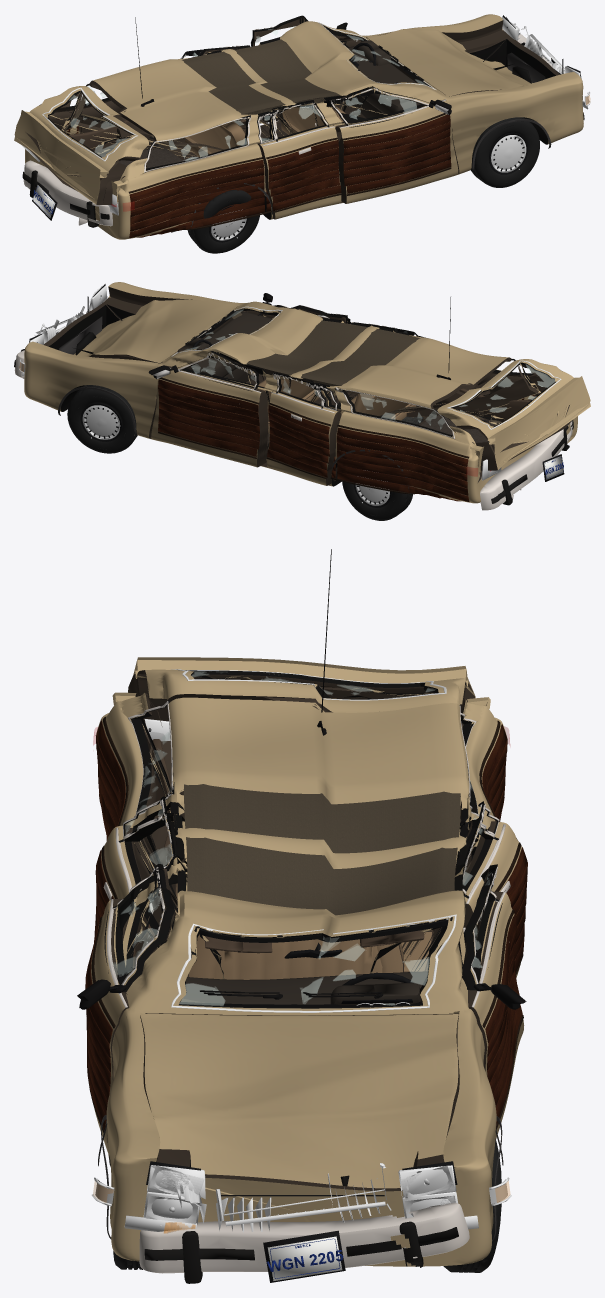
The model's file is wagon82_roll_d1_lod1.glb.
The picture shows the model from 3 angles, top to bottom: view 1: azimuth 30°, elevation 25°; view 2: azimuth 150°, elevation 25°; view 3: azimuth 270°, elevation 25°; orthographic projection. The views are drawn at different scales.
Visible parts, largest first — view 1: Body, Trim, Tailgate, Trim_FR, Interior, Hood, Trim_RR, Door_FR, Wheel_FR_mesh, Wheel_RR_mesh, Door_RR, Bumper_R (+7 smaller); view 2: Body, Trim, Tailgate, Trim_FL, Hood, Interior, Trim_RL, Door_FL, Wheel_FL_mesh, Bumper_R, Door_RL, Wheel_RL_mesh (+6 smaller); view 3: Body, Hood, Interior, Tailgate, Ends, Bumper_F, Trim, Glass, Trim_FL, Door_FR, Door_FL, Trim_FR (+8 smaller).
Part boxes in pixels (x1=…): Body: x1=25, y1=14, x2=583, y2=239; Trim: x1=56, y1=17, x2=551, y2=238; Tailgate: x1=14, y1=86, x2=148, y2=204; Trim_FR: x1=331, y1=87, x2=451, y2=195; Interior: x1=69, y1=40, x2=420, y2=168; Hood: x1=367, y1=29, x2=532, y2=96; Trim_RR: x1=258, y1=102, x2=341, y2=212; Door_FR: x1=326, y1=87, x2=458, y2=203; Wheel_FR_mesh: x1=470, y1=117, x2=539, y2=187; Wheel_RR_mesh: x1=187, y1=188, x2=259, y2=253; Door_RR: x1=258, y1=101, x2=341, y2=219; Bumper_R: x1=22, y1=160, x2=112, y2=227; Body: x1=24, y1=282, x2=577, y2=503; Trim: x1=58, y1=297, x2=534, y2=501; Tailgate: x1=437, y1=359, x2=590, y2=470; Trim_FL: x1=148, y1=353, x2=260, y2=458; Hood: x1=74, y1=299, x2=239, y2=363; Interior: x1=177, y1=312, x2=530, y2=482; Trim_RL: x1=267, y1=373, x2=337, y2=478; Door_FL: x1=151, y1=351, x2=268, y2=467; Wheel_FL_mesh: x1=67, y1=385, x2=137, y2=453; Bumper_R: x1=480, y1=420, x2=573, y2=510; Door_RL: x1=267, y1=372, x2=341, y2=485; Wheel_RL_mesh: x1=342, y1=455, x2=412, y2=520; Body: x1=96, y1=692, x2=506, y2=1266; Hood: x1=140, y1=1013, x2=458, y2=1188; Interior: x1=152, y1=739, x2=433, y2=1005; Tailgate: x1=128, y1=657, x2=475, y2=783; Ends: x1=91, y1=719, x2=511, y2=1282; Bumper_F: x1=139, y1=1202, x2=469, y2=1283; Trim: x1=95, y1=549, x2=507, y2=1241; Glass: x1=130, y1=700, x2=472, y2=1012; Trim_FL: x1=471, y1=866, x2=526, y2=1129; Door_FR: x1=91, y1=864, x2=175, y2=1151; Door_FL: x1=462, y1=864, x2=524, y2=1138; Trim_FR: x1=77, y1=867, x2=164, y2=1132.
Bounding box in the file's own units: 5.15 × 1.98 × 1.96.
Materials: 35 (6 with a texture image).
